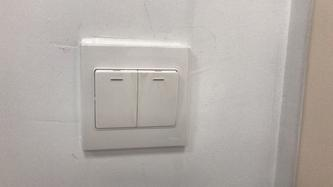switch: (91, 66, 141, 132), (135, 67, 180, 130)
